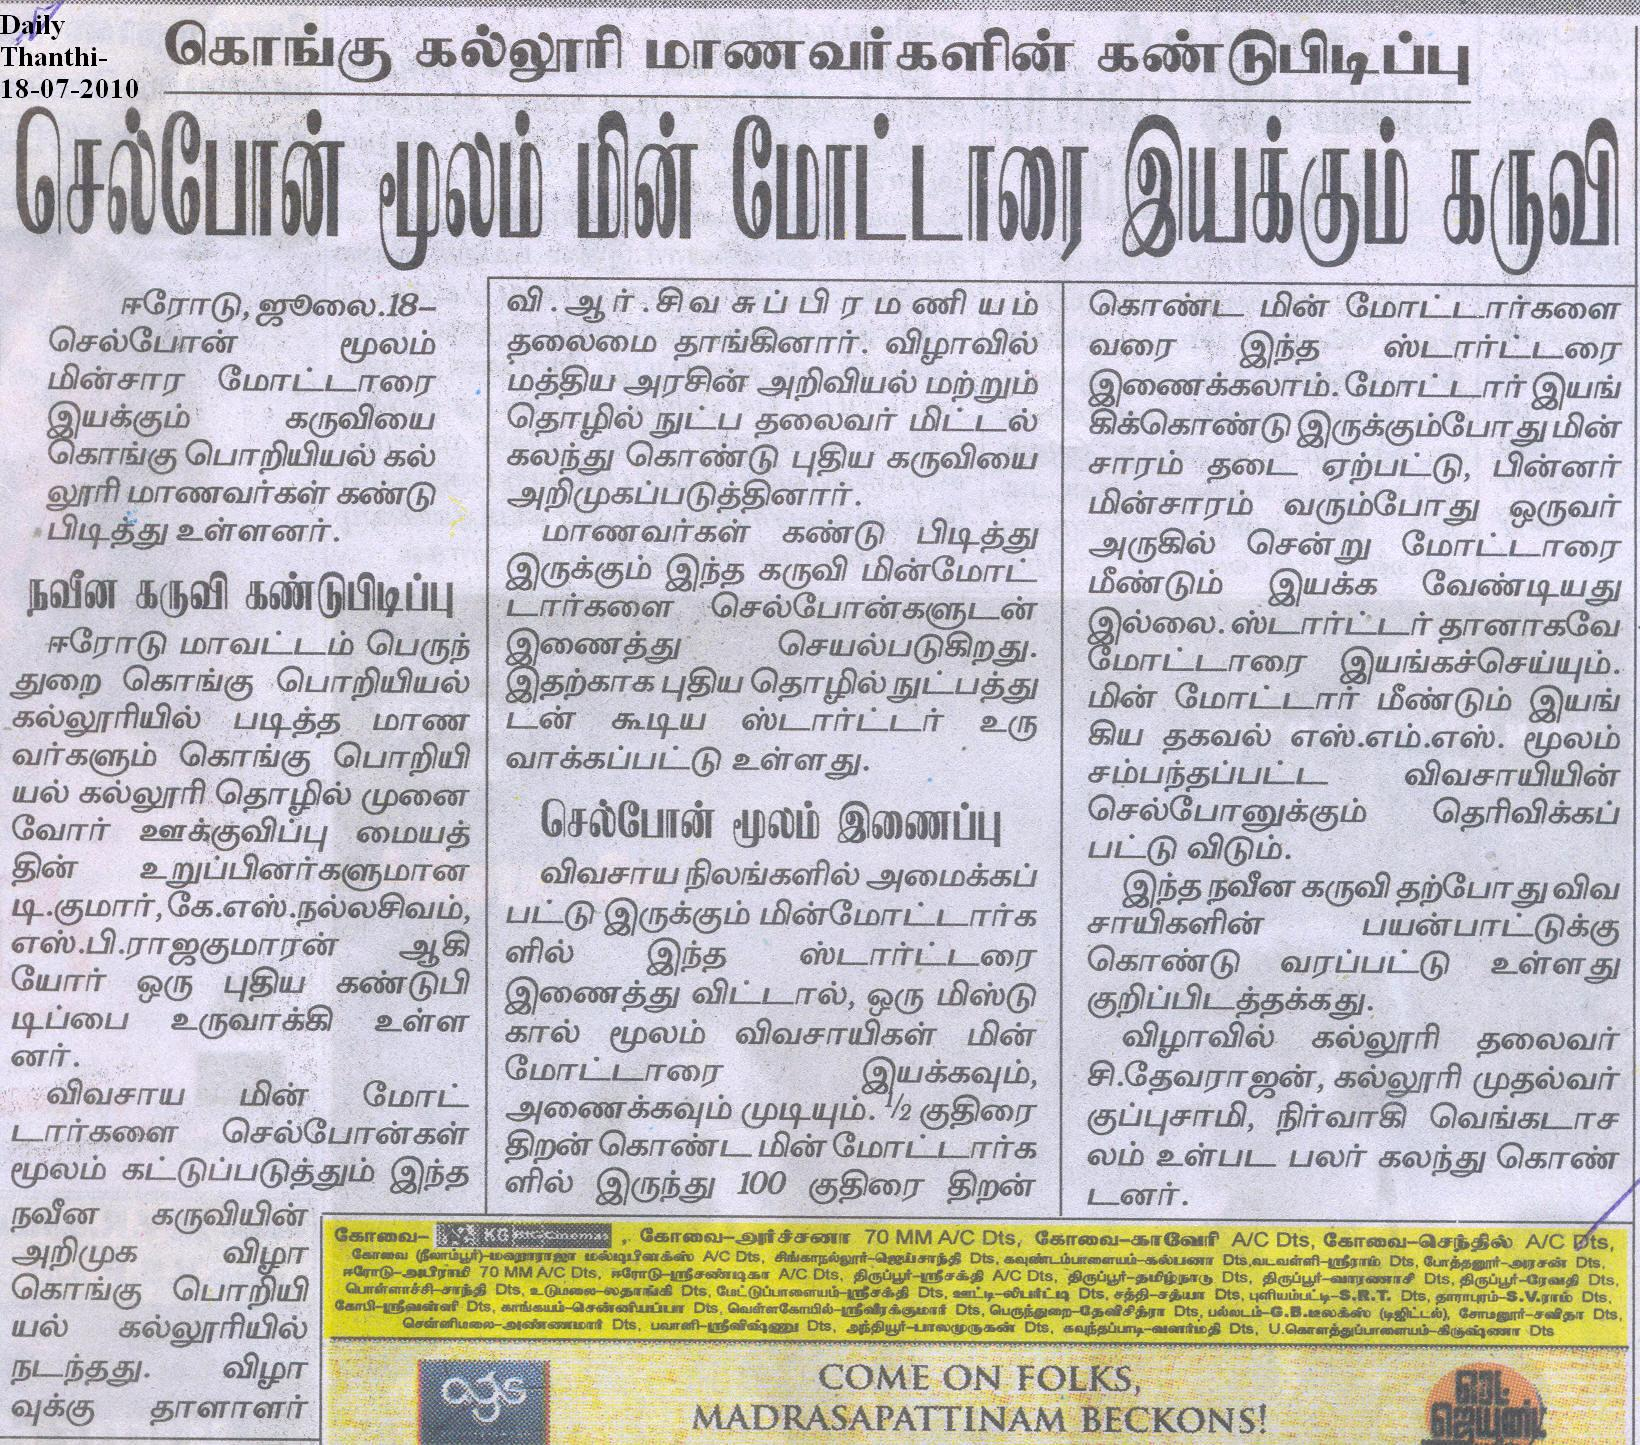news_paper: (1, 6, 1640, 1445)
